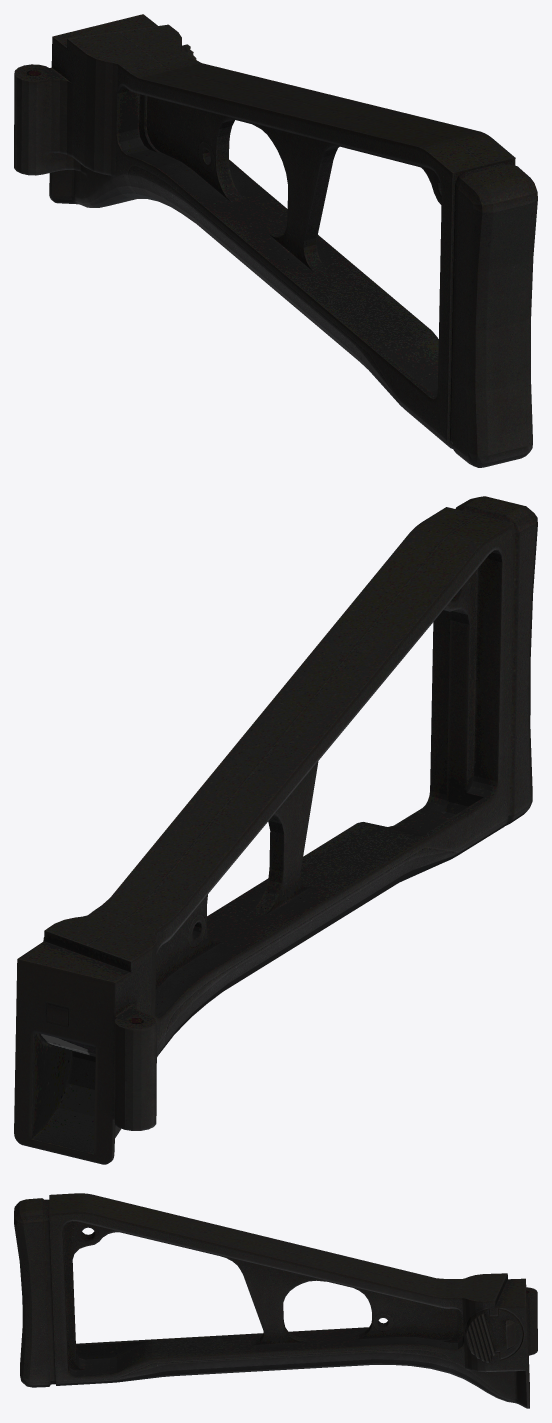
The picture shows the model from 3 angles, top to bottom: view 1: azimuth 30°, elevation 25°; view 2: azimuth 150°, elevation 25°; view 3: azimuth 270°, elevation 25°; orthographic projection. The views are drawn at different scales.
Parts seen in each view (by area): view 1: TW_5fc3e4ee7283c4046c5814af_PZ_Import; view 2: TW_5fc3e4ee7283c4046c5814af_PZ_Import; view 3: TW_5fc3e4ee7283c4046c5814af_PZ_Import.
Part boxes in pixels (box(x1,y1,x2,y2)): TW_5fc3e4ee7283c4046c5814af_PZ_Import: box(14, 14, 537, 467); TW_5fc3e4ee7283c4046c5814af_PZ_Import: box(14, 496, 537, 1164); TW_5fc3e4ee7283c4046c5814af_PZ_Import: box(14, 1193, 537, 1408).
Size of the model in its own units: 0.0305 by 0.1601 by 0.0655.
Materials: 1 (1 with a texture image).
